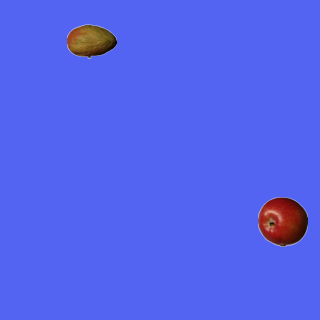Apple Braeburn: (257, 196, 307, 246)
Papaya: (66, 16, 116, 66)
